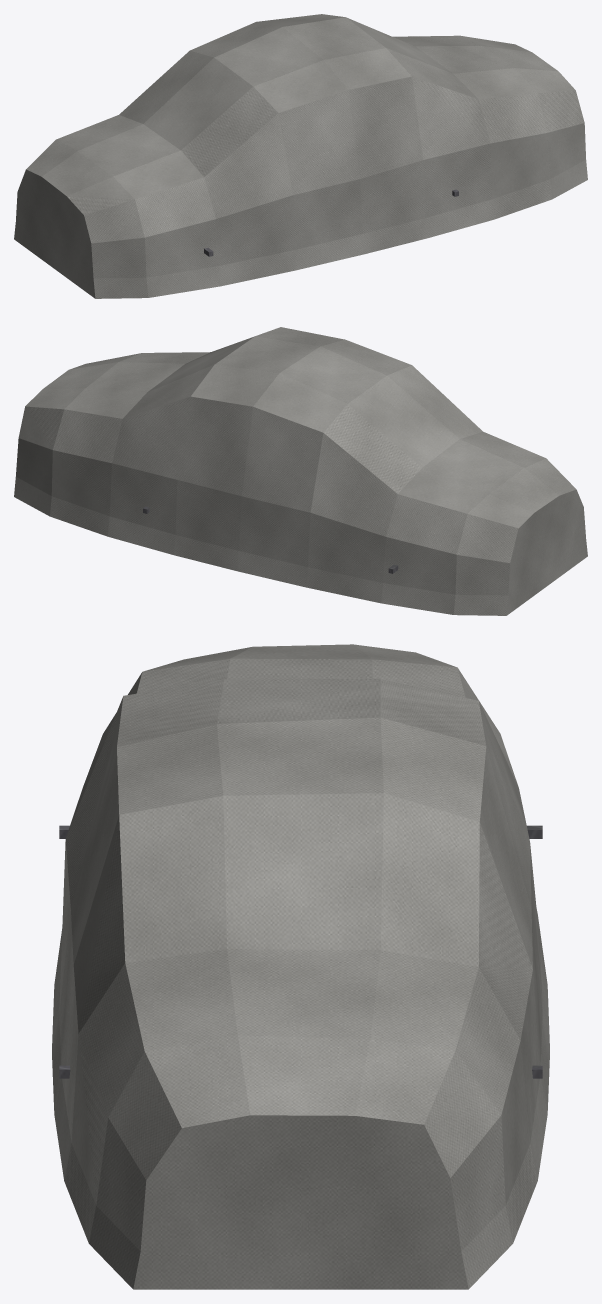
File: coveredcar.glb
3 views of the same model, one above another, from view 1: azimuth 30°, elevation 25°; view 2: azimuth 150°, elevation 25°; view 3: azimuth 270°, elevation 25° (orthographic). The views are drawn at different scales.
Parts seen in each view (by area): view 1: NC_coveredcar; view 2: NC_coveredcar; view 3: NC_coveredcar.
Boxes of the visible parts, x1,y1,x2,y2 form: NC_coveredcar: (14, 14, 587, 298); NC_coveredcar: (14, 327, 587, 615); NC_coveredcar: (52, 644, 549, 1289).
Bounding box in the file's own units: 4.6 × 1.5 × 2.02.
Materials: 2 (2 with a texture image).
